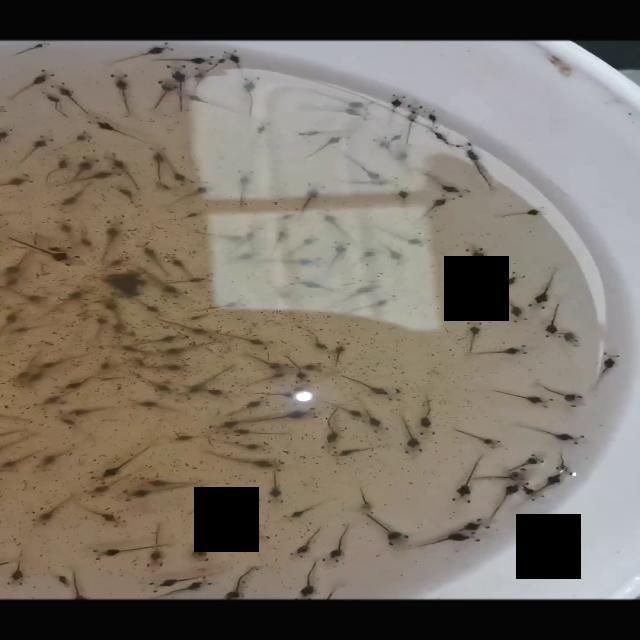shrimp2: (335, 372, 409, 404), (515, 418, 592, 448), (444, 452, 486, 506), (220, 504, 272, 547), (28, 490, 79, 532), (525, 264, 563, 313), (108, 66, 140, 117), (592, 344, 626, 391), (363, 515, 411, 547), (320, 522, 354, 566), (78, 504, 135, 530), (463, 239, 491, 287), (414, 391, 441, 438), (456, 427, 506, 452), (234, 165, 260, 211), (302, 178, 330, 218), (461, 312, 487, 354), (498, 203, 556, 221), (241, 72, 262, 120), (476, 343, 534, 359), (263, 470, 287, 506), (330, 339, 354, 368)
